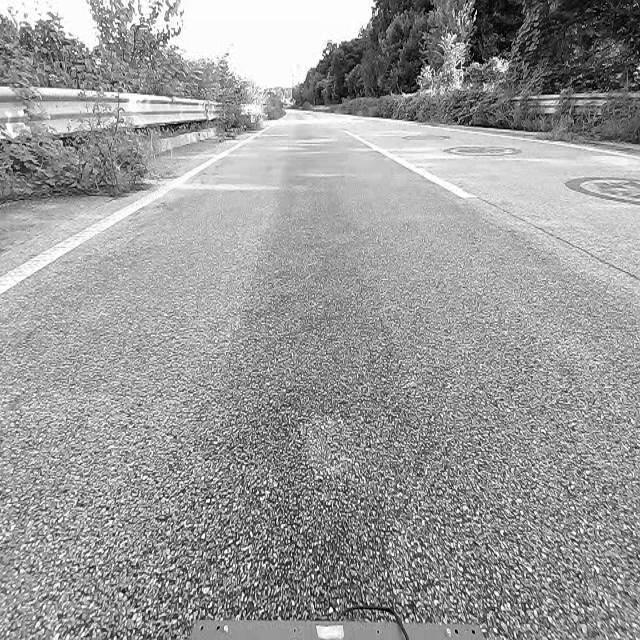Lane: (0, 127, 260, 322), (0, 136, 252, 298), (342, 123, 482, 212), (346, 131, 479, 200)
